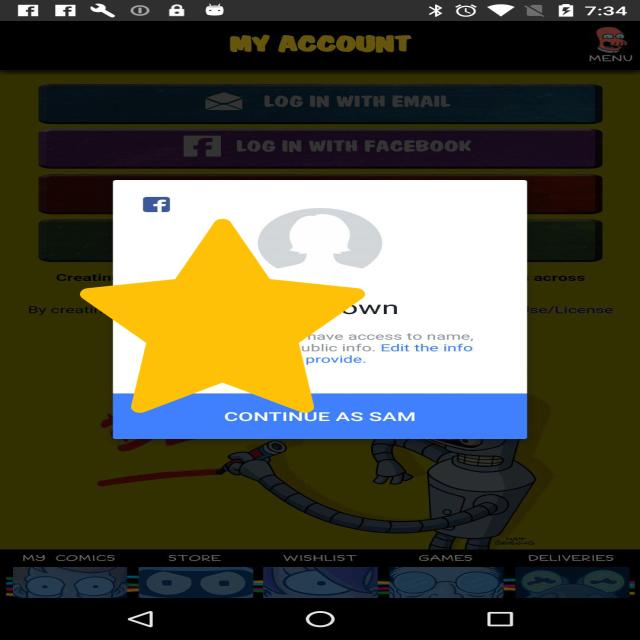forced continuity: (80, 219, 365, 413)
